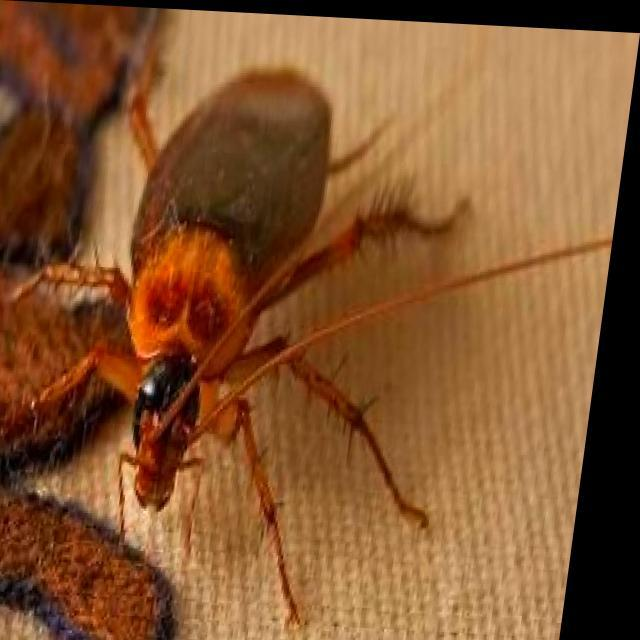cockroach: (0, 38, 411, 541)
